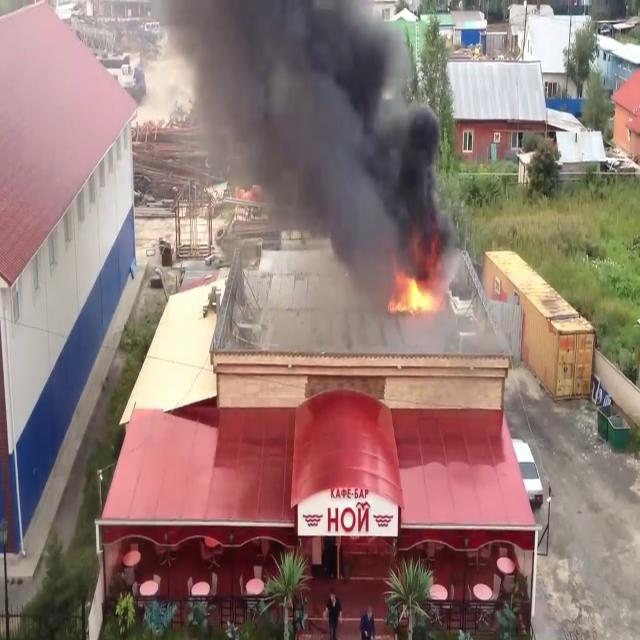Fire: (390, 260, 443, 318)
Smoke: (163, 1, 447, 282)
